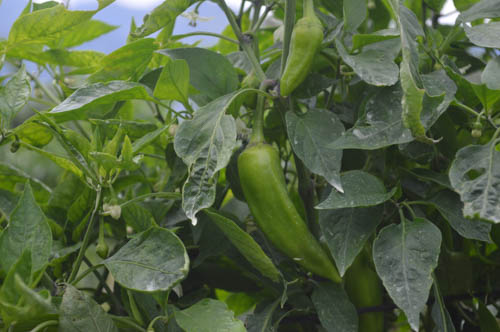ChiliPepper: (241, 145, 343, 283), (344, 239, 385, 329), (275, 19, 320, 100)
